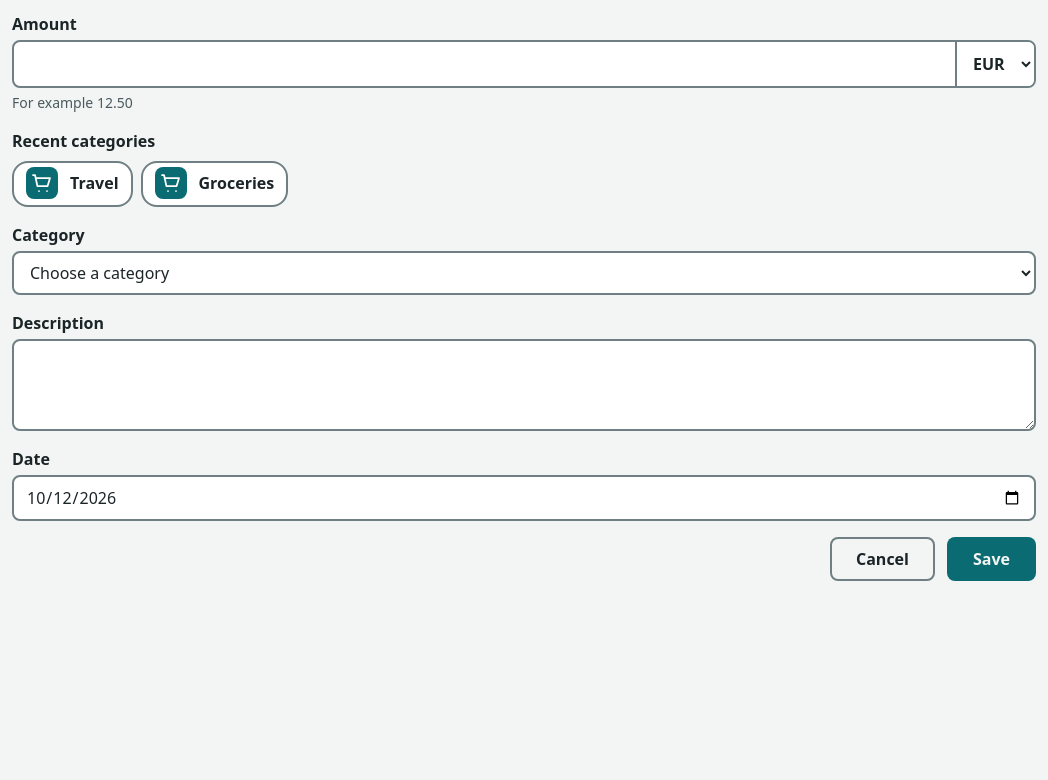
Test case: ExpenseForm › shows recent categories as chips and selects one with a tap
The image size is (1048, 780).
Click the button "Groceries" at (214, 184), box [140,161,288,207]
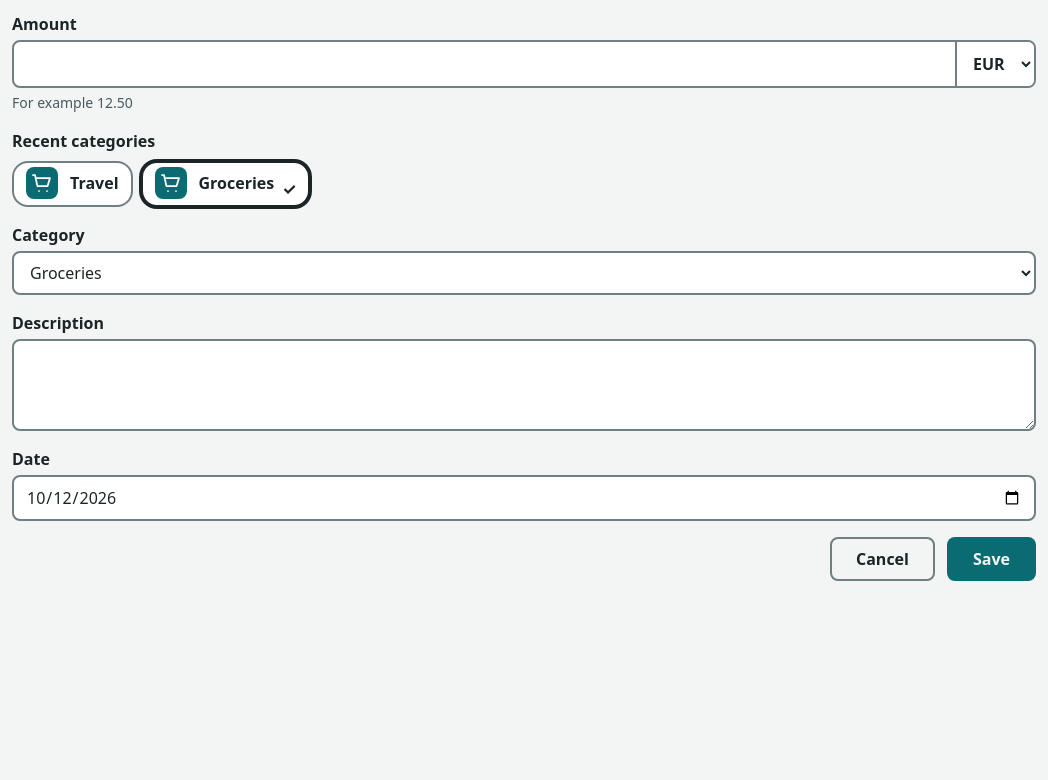
Check: the dropdown labelled "Category" shows "Groceries", box [12,251,1036,295]
